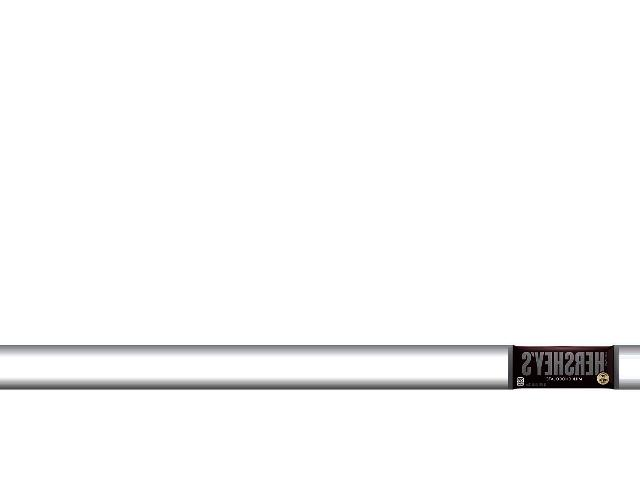chocolate: (508, 346, 616, 394)
